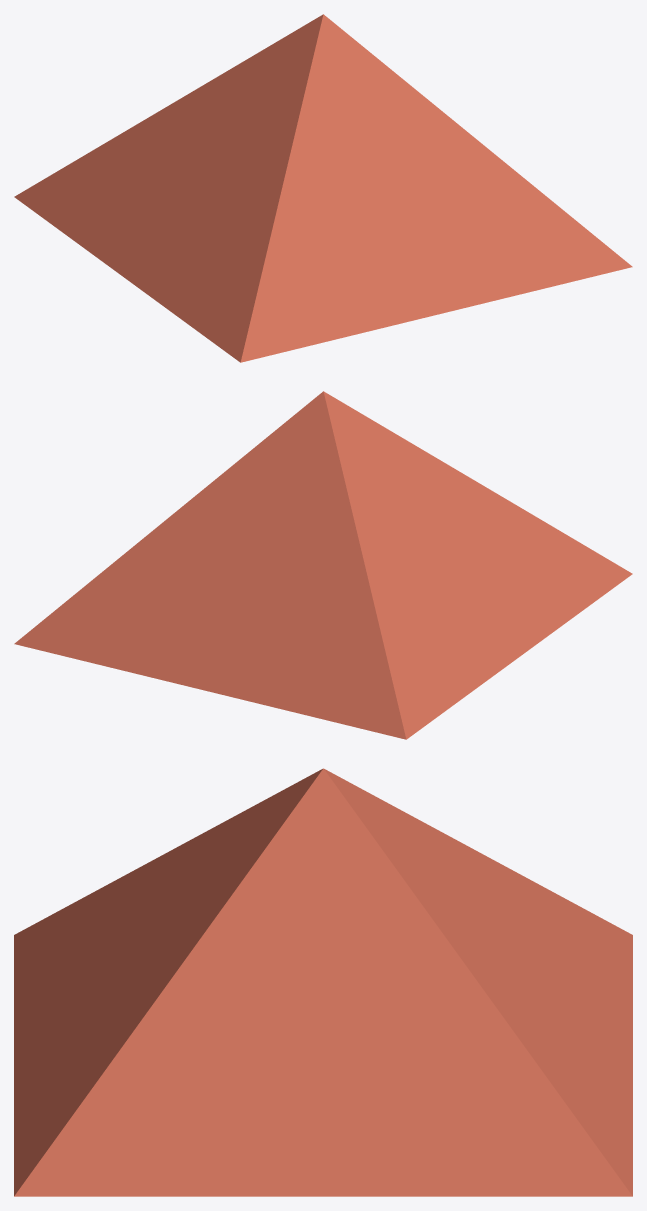
The model's file is Piramide.fbx.
3 renders of one model, top to bottom at view 1: azimuth 30°, elevation 25°; view 2: azimuth 150°, elevation 25°; view 3: azimuth 270°, elevation 25°, orthographic. The views are drawn at different scales.
Visible parts, largest first — view 1: Cone; view 2: Cone; view 3: Cone.
Part boxes in pixels (<box>): Cone: <box>14,14,632,362</box>; Cone: <box>14,391,632,739</box>; Cone: <box>14,768,632,1196</box>.
Size of the model in its own units: 14.93 by 7.92 by 14.93.
